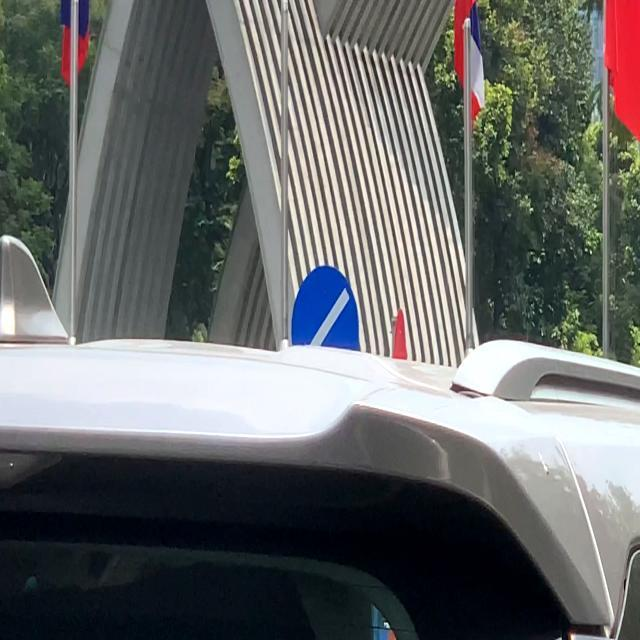302a-huong-phai-di-vong-chuong-ngai-vat-1: (290, 266, 362, 358)
